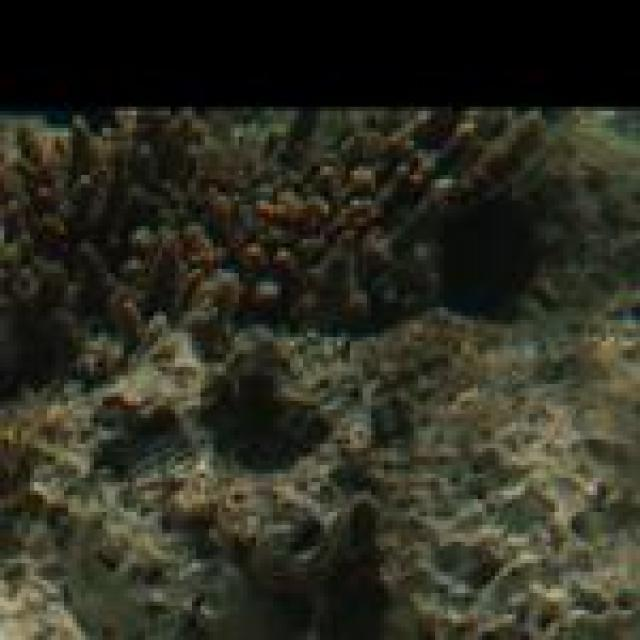Dead Coral: (0, 121, 591, 338)
